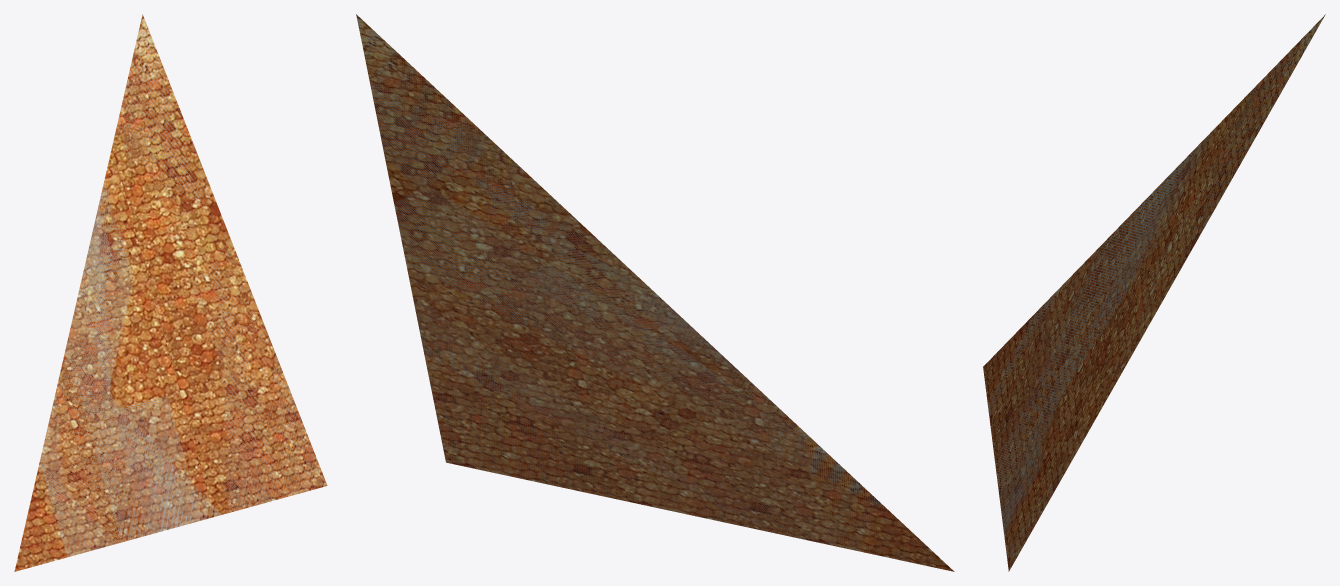
Rendered from 西庸城堡104.dae.
The picture shows the model from 3 angles, left to right: view 1: azimuth 30°, elevation 25°; view 2: azimuth 150°, elevation 25°; view 3: azimuth 270°, elevation 25°; orthographic projection. The views are drawn at different scales.
Visible parts, largest first — view 1: SketchUp; view 2: SketchUp; view 3: SketchUp.
Boxes of the visible parts, x1,y1,x2,y2 form: SketchUp: (14,14,327,571); SketchUp: (356,14,954,571); SketchUp: (983,14,1325,571).
Size of the model in its own units: 234 by 165 by 276.
